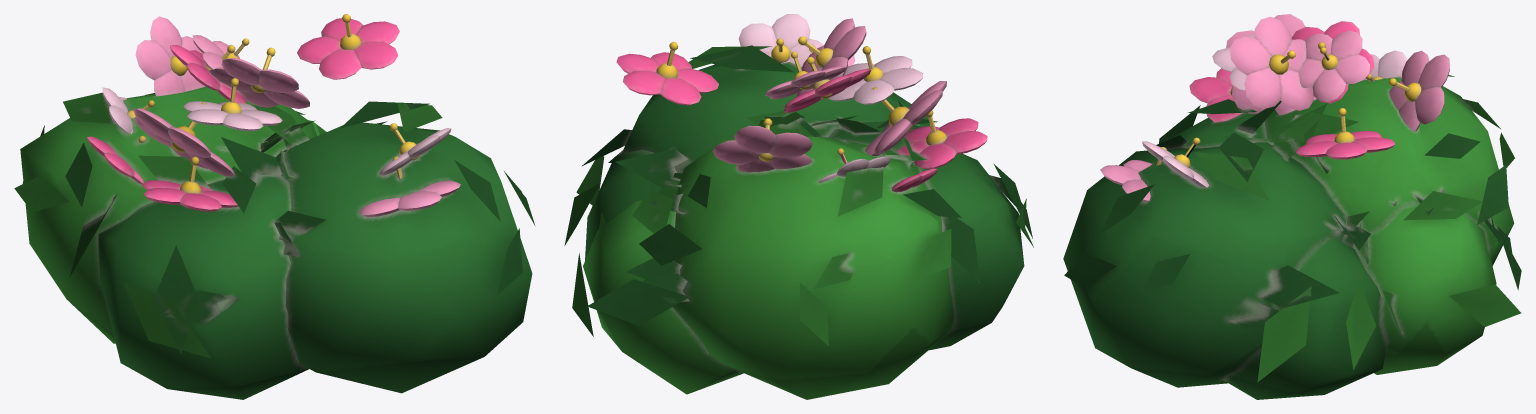
Rendered from en_flower_bush.glb.
3 views of the same model, side by side, from view 1: azimuth 30°, elevation 25°; view 2: azimuth 150°, elevation 25°; view 3: azimuth 270°, elevation 25° (orthographic). The views are drawn at different scales.
Parts seen in each view (by area): view 1: en_flower_bush; view 2: en_flower_bush; view 3: en_flower_bush.
Part boxes in pixels (left/top/right/bottom): en_flower_bush: left=14, top=14, right=535, bottom=399; en_flower_bush: left=564, top=14, right=1033, bottom=399; en_flower_bush: left=1063, top=14, right=1521, bottom=399.
Size of the model in its own units: 3.01 by 2.29 by 3.01.
6 materials, 6 textured.
